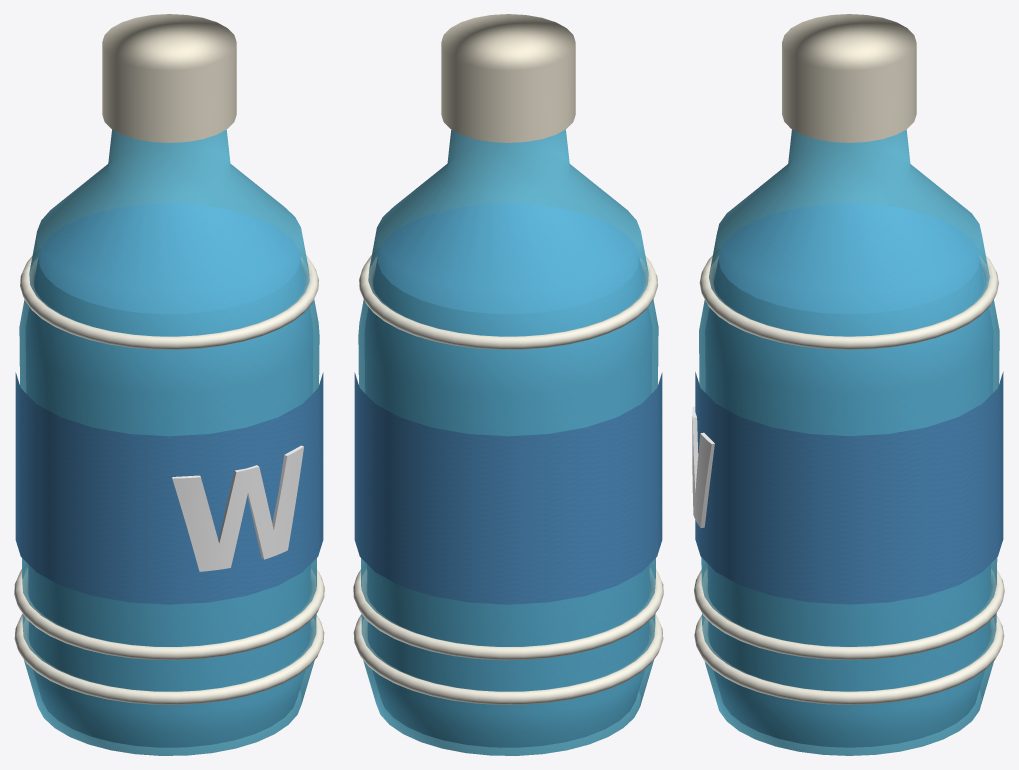
Rendered from WATER.glb.
3 views of the same model, side by side, from view 1: azimuth 30°, elevation 25°; view 2: azimuth 150°, elevation 25°; view 3: azimuth 270°, elevation 25° (orthographic).
Visible parts, largest first — view 1: WATER; view 2: WATER; view 3: WATER.
Part boxes in pixels (box(x1,y1,x2,y2)): WATER: box(14, 14, 324, 755); WATER: box(353, 14, 663, 755); WATER: box(692, 14, 1004, 755).
Bounding box in the file's own units: 0.1758 × 0.41 × 0.1767.
Materials: 5 (1 with a texture image).
